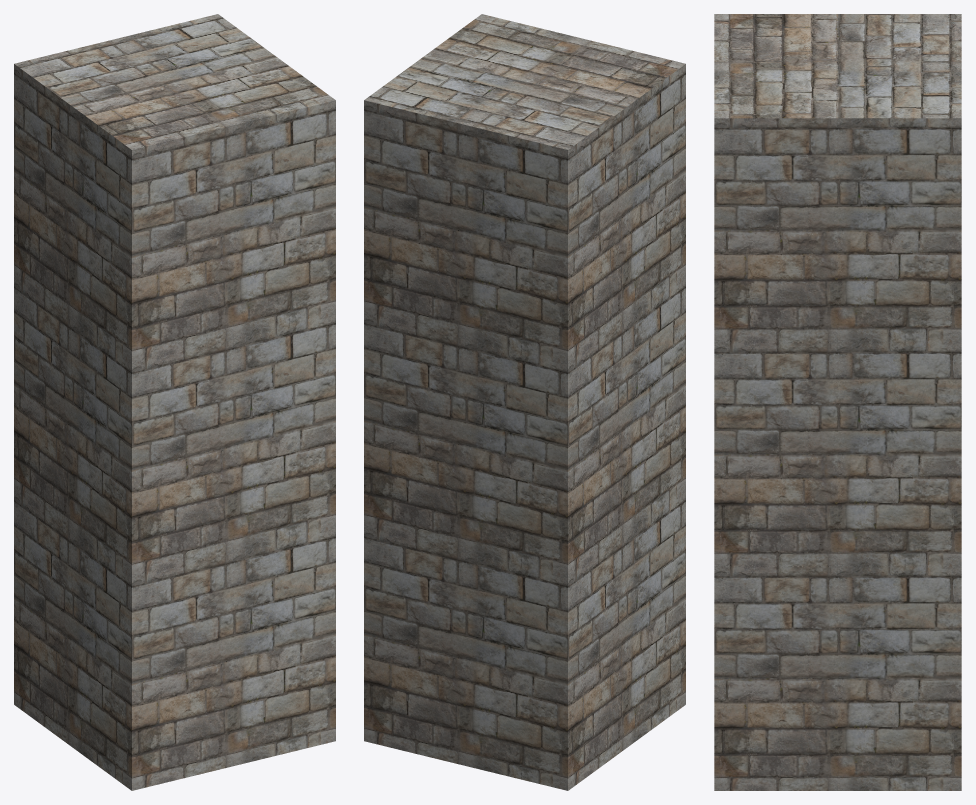
The model's file is Flooring_A0.fbx.
3 renders of one model, left to right at view 1: azimuth 30°, elevation 25°; view 2: azimuth 150°, elevation 25°; view 3: azimuth 270°, elevation 25°, orthographic. The views are drawn at different scales.
Visible parts, largest first — view 1: Flooring_A0; view 2: Flooring_A0; view 3: Flooring_A0.
Boxes of the visible parts, x1,y1,x2,y2 form: Flooring_A0: (14, 14, 335, 790); Flooring_A0: (364, 14, 685, 790); Flooring_A0: (714, 14, 961, 790).
Bounding box in the file's own units: 150 × 450 × 150.
